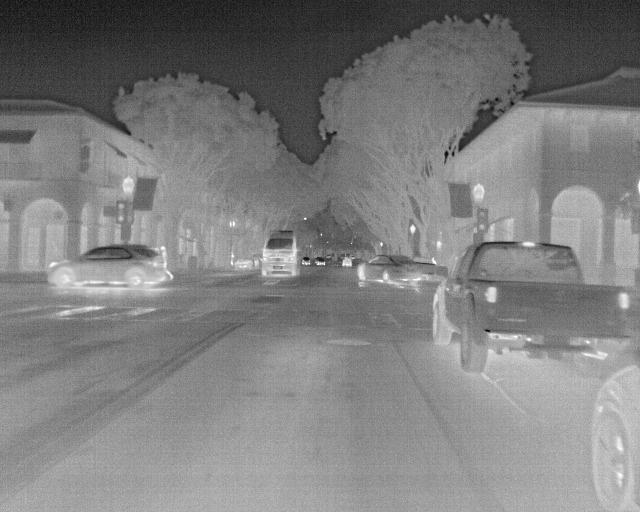car: (428, 238, 632, 373), (586, 362, 639, 511), (49, 244, 166, 289), (352, 252, 424, 290), (260, 230, 299, 281), (411, 254, 439, 281), (233, 257, 255, 273), (340, 253, 358, 267), (313, 255, 327, 268), (300, 255, 313, 267)
